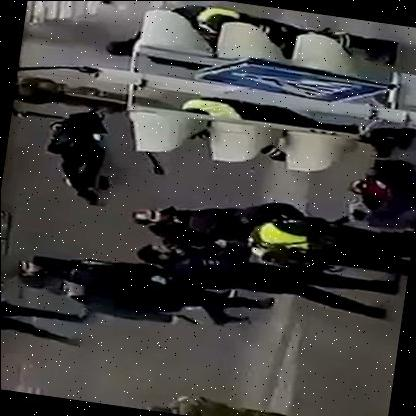rifle: (171, 312, 205, 328)
